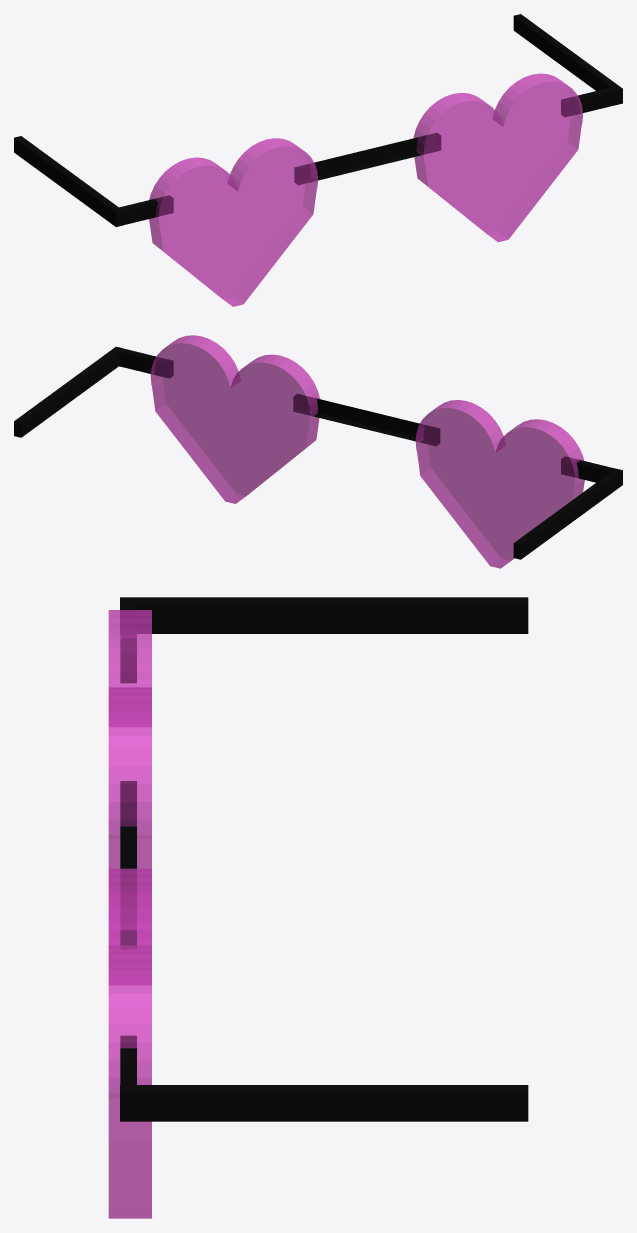
File: HeartSunglasses.fbx
The picture shows the model from 3 angles, top to bottom: view 1: azimuth 30°, elevation 25°; view 2: azimuth 150°, elevation 25°; view 3: azimuth 270°, elevation 25°; orthographic projection. The views are drawn at different scales.
Parts seen in each view (by area): view 1: 실린더, 실린더.001, Cube.007; view 2: 실린더, 실린더.001, Cube.007; view 3: Cube.007, 실린더, 실린더.001.
Boxes of the visible parts, x1=… form: 실린더: x1=413, y1=73, x2=582, y2=242; 실린더.001: x1=149, y1=138, x2=317, y2=306; Cube.007: x1=14, y1=14, x2=622, y2=226; 실린더: x1=150, y1=335, x2=319, y2=503; 실린더.001: x1=415, y1=400, x2=584, y2=568; Cube.007: x1=14, y1=346, x2=622, y2=559; Cube.007: x1=120, y1=597, x2=528, y2=1121; 실린더: x1=108, y1=868, x2=151, y2=1218; 실린더.001: x1=108, y1=610, x2=151, y2=944.
Size of the model in its own units: 398 by 112 by 142.
